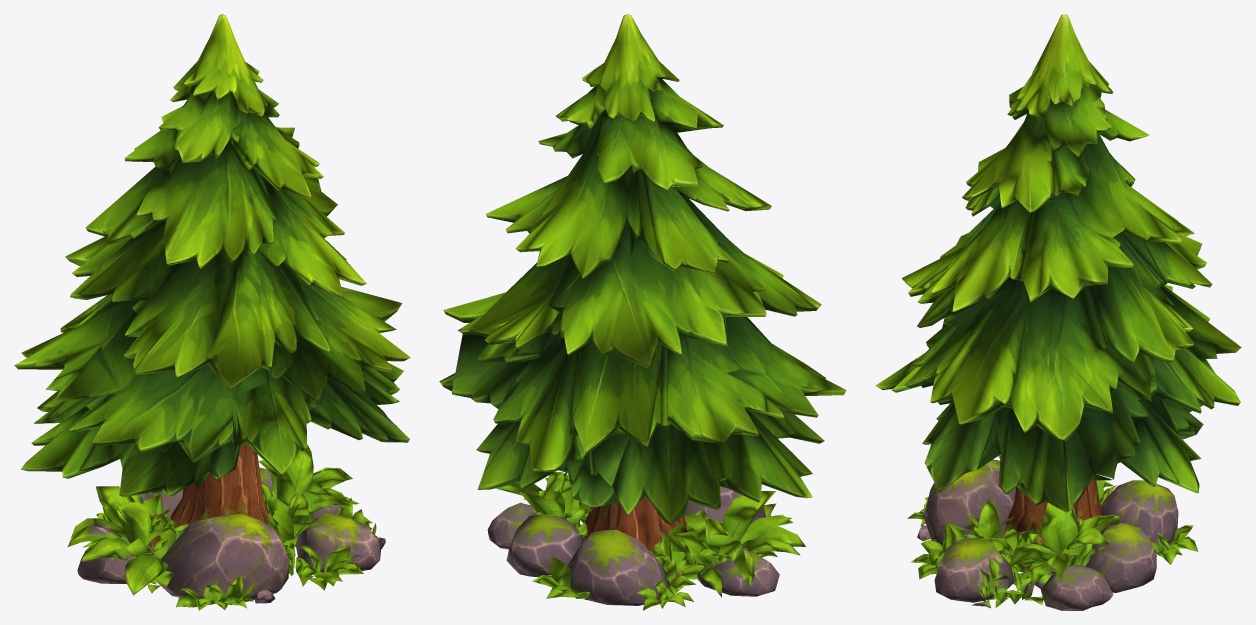
Rendered from Meshy_AI_Evergreen_Sentinel_1005034059_texture.glb.
3 renders of one model, left to right at view 1: azimuth 30°, elevation 25°; view 2: azimuth 150°, elevation 25°; view 3: azimuth 270°, elevation 25°, orthographic. The views are drawn at different scales.
Visible parts, largest first — view 1: Mesh_0; view 2: Mesh_0; view 3: Mesh_0.
Boxes of the visible parts, left/top/right/bottom form: Mesh_0: left=14, top=14, right=410, bottom=610; Mesh_0: left=439, top=14, right=846, bottom=610; Mesh_0: left=875, top=14, right=1241, bottom=610.
Size of the model in its own units: 0.0885 by 0.12 by 0.0742.
Materials: 1 (1 with a texture image).
